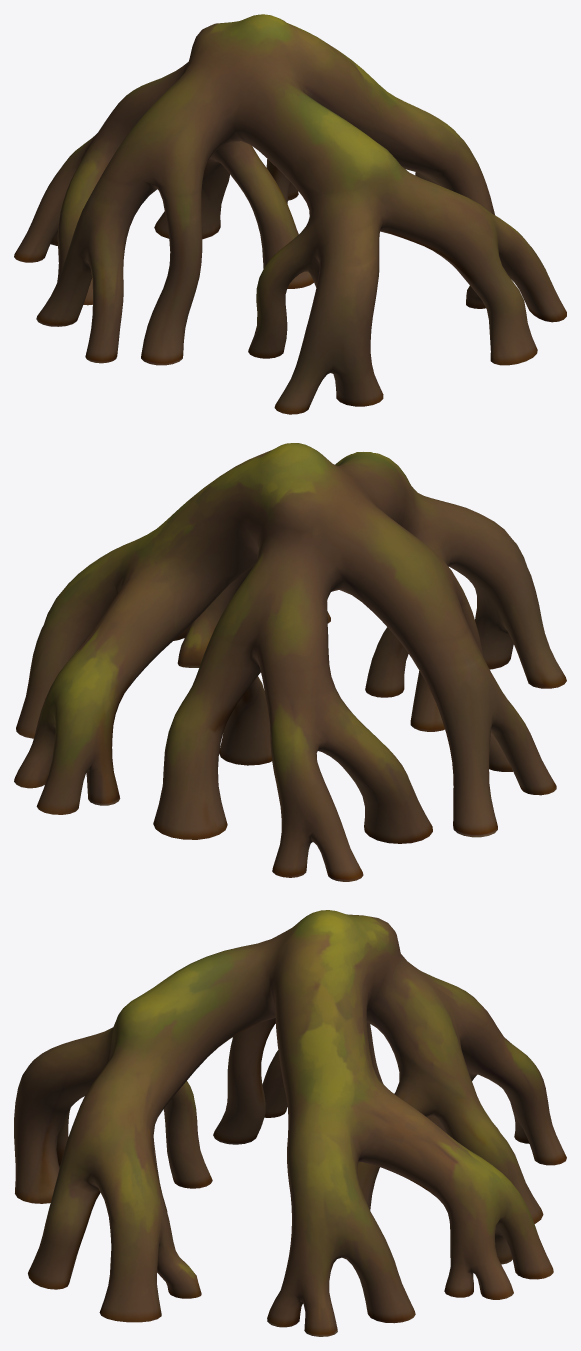
Rendered from roots1.fbx.
3 views of the same model, one above another, from view 1: azimuth 30°, elevation 25°; view 2: azimuth 150°, elevation 25°; view 3: azimuth 270°, elevation 25° (orthographic). The views are drawn at different scales.
Visible parts, largest first — view 1: tripo_924c802b_2807_4165_9f84_d3562c594b42; view 2: tripo_924c802b_2807_4165_9f84_d3562c594b42; view 3: tripo_924c802b_2807_4165_9f84_d3562c594b42.
Boxes of the visible parts, x1=… form: tripo_924c802b_2807_4165_9f84_d3562c594b42: x1=14, y1=14, x2=566, y2=414; tripo_924c802b_2807_4165_9f84_d3562c594b42: x1=14, y1=443, x2=566, y2=881; tripo_924c802b_2807_4165_9f84_d3562c594b42: x1=14, y1=910, x2=566, y2=1336.
Bounding box in the file's own units: 0.9937 × 0.5962 × 0.9995.
Materials: 1 (1 with a texture image).
